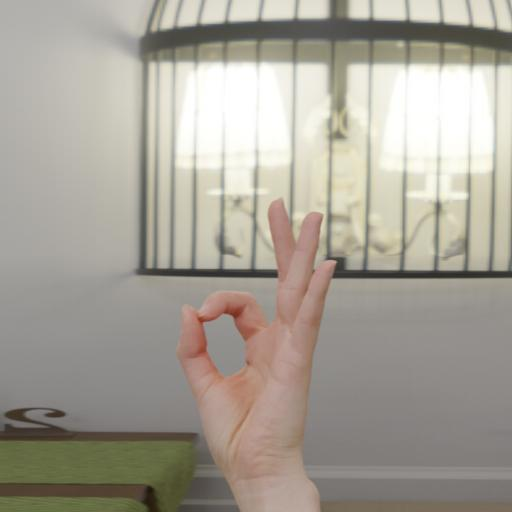F: (161, 191, 347, 512)
